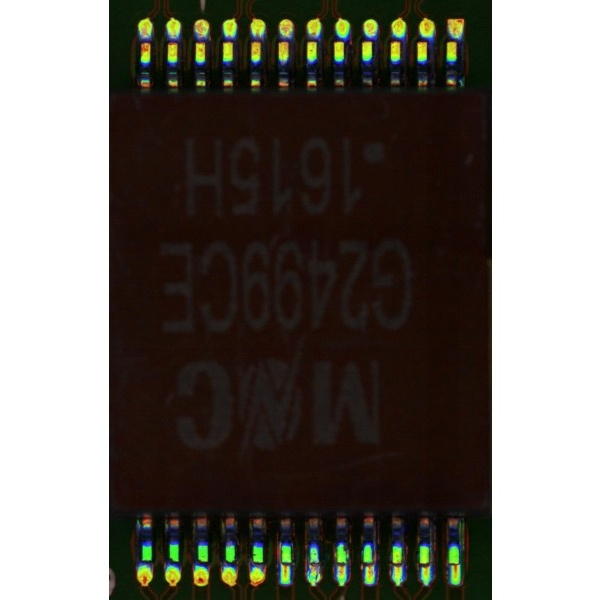Bad_podu: (280, 554, 289, 578), (364, 557, 372, 577), (421, 555, 428, 576), (338, 557, 345, 576), (452, 556, 457, 576), (310, 557, 316, 573)
